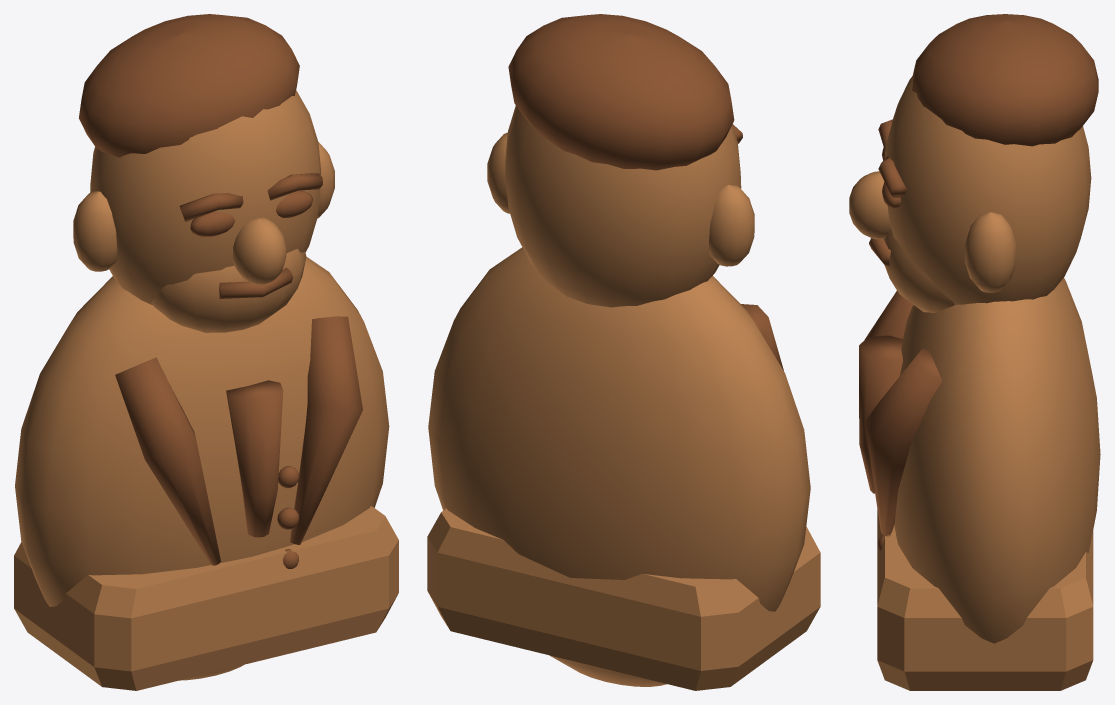
File: coach-2.glb
3 renders of one model, left to right at view 1: azimuth 30°, elevation 25°; view 2: azimuth 150°, elevation 25°; view 3: azimuth 270°, elevation 25°, orthographic. The views are drawn at different scales.
Visible parts, largest first — view 1: coach-2 · Cast bronze, coach-2 · Bronze patina, coach-2 · Cast bronze.001; view 2: coach-2 · Cast bronze, coach-2 · Cast bronze.001, coach-2 · Bronze patina; view 3: coach-2 · Cast bronze, coach-2 · Bronze patina, coach-2 · Cast bronze.001.
Part boxes in pixels (bbox=[...]): coach-2 · Cast bronze: bbox=[15, 90, 389, 680]; coach-2 · Bronze patina: bbox=[79, 14, 362, 568]; coach-2 · Cast bronze.001: bbox=[14, 506, 398, 690]; coach-2 · Cast bronze: bbox=[428, 105, 810, 686]; coach-2 · Cast bronze.001: bbox=[427, 508, 820, 690]; coach-2 · Bronze patina: bbox=[508, 14, 783, 370]; coach-2 · Cast bronze: bbox=[849, 76, 1100, 643]; coach-2 · Bronze patina: bbox=[859, 14, 1098, 551]; coach-2 · Cast bronze.001: bbox=[877, 509, 1093, 690].
Bounding box in the file's own units: 1.18 × 2.01 × 0.7085.
